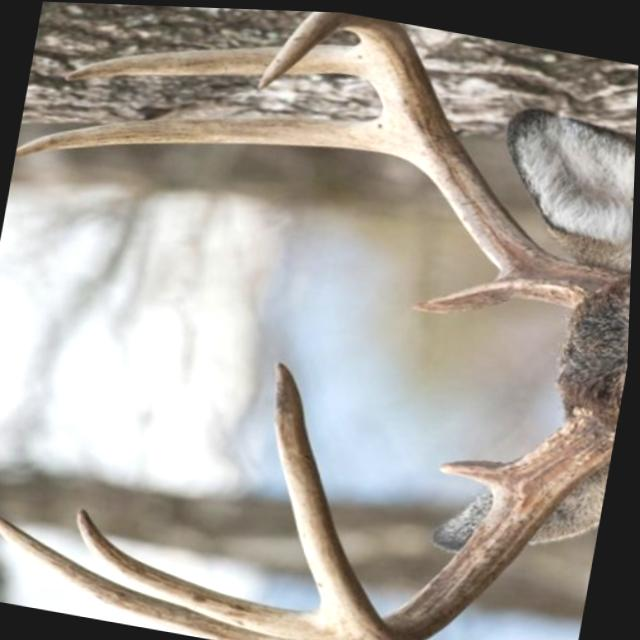L-F: (275, 359, 619, 640)
L-G1: (441, 456, 510, 486)
L-G2: (0, 514, 303, 640)
L-G3: (78, 506, 352, 640)
R-F: (257, 9, 629, 303)
R-G1: (410, 271, 528, 310)
R-G2: (15, 114, 396, 160)
